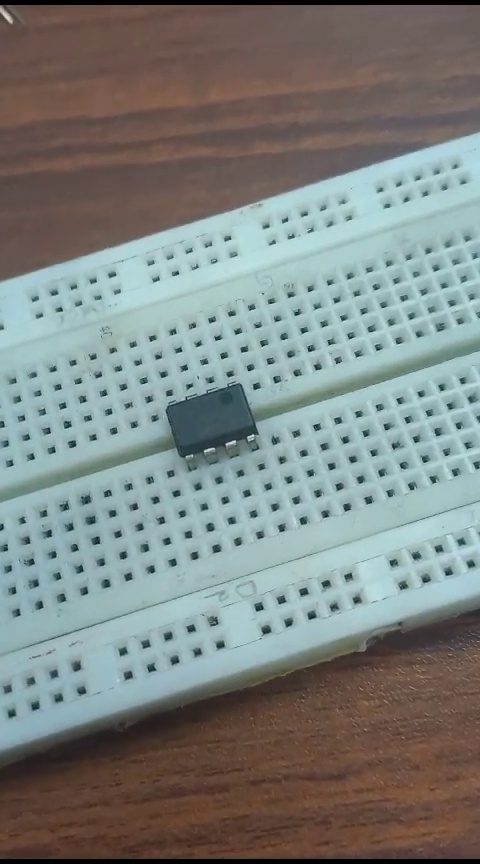IC: (158, 381, 272, 459)
